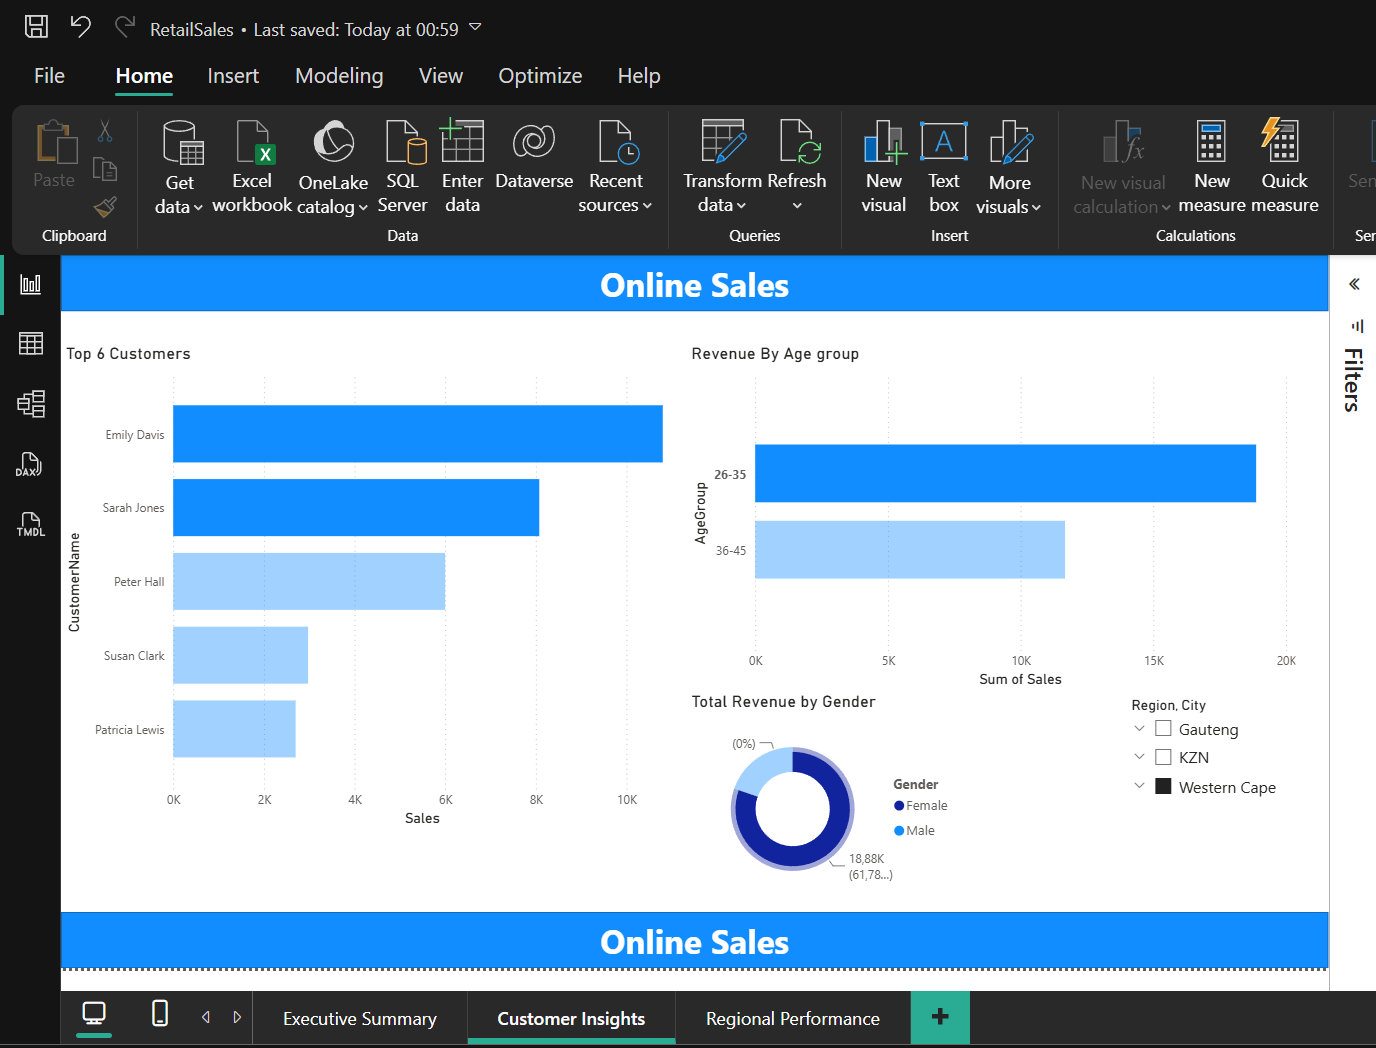

This screenshot's page, from the dashboard's own definition file:
{"tool":"powerbi","page":{"name":"Customer Insights","canvas":[1280,720],"ordinal":1},"visuals":[{"type":"donutChart","fields":{"Category":["SaleTable_Clean_Dedup.Gender"],"Y":["Sum(SaleTable_Clean_Dedup.Sales)"]},"box":[631.2,440.3,279.7,217.3],"z":0},{"type":"barChart","title":"Top 6 Customers","fields":{"Category":["SaleTable_Clean_Dedup.CustomerName"],"Y":["Sum(SaleTable_Clean_Dedup.Sales)"]},"box":[0,88.8,631.2,491.3],"z":1},{"type":"clusteredBarChart","title":"Revenue By Age group","fields":{"Category":["SaleTable_Clean_Dedup (2).AgeGroup"],"Y":["Sum(SaleTable_Clean_Dedup.Sales)"]},"box":[631.2,88.8,619.8,351.5],"z":2},{"type":"slicer","fields":{"Values":["SaleTable_Clean_Dedup.Region","SaleTable_Clean_Dedup.City"]},"box":[1067.7,440.3,211.7,139.8],"z":3},{"type":"shape","title":"Online Shop","box":[0,0,1279.4,56.7],"z":4},{"type":"shape","title":"Online Shop","box":[0,663.3,1279.4,56.7],"z":5}]}

Visuals, with their boxes on the page's 1280x720 design canvas (x1, y1, x2, y2). These are canvas units, not pixel positions in the 1376x1048 screenshot, which may show the page scaled, cropped or inside an application window:
donutChart - SaleTable_Clean_Dedup.Gender x Sum(SaleTable_Clean_Dedup.Sales): bbox=[631, 440, 911, 658]
"Top 6 Customers" barChart: bbox=[0, 89, 631, 580]
"Revenue By Age group" clusteredBarChart: bbox=[631, 89, 1251, 440]
slicer - SaleTable_Clean_Dedup.Region x SaleTable_Clean_Dedup.City: bbox=[1068, 440, 1279, 580]
"Online Shop" shape: bbox=[0, 0, 1279, 57]
"Online Shop" shape: bbox=[0, 663, 1279, 720]
